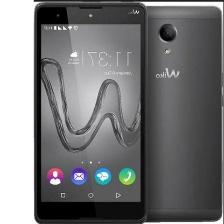phone: (103, 3, 223, 224), (31, 0, 149, 224)
